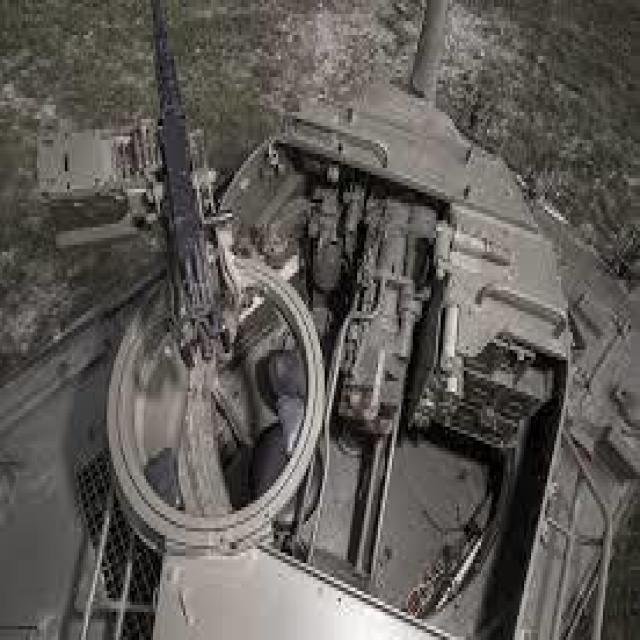MIL_MBT: (100, 63, 621, 616)
